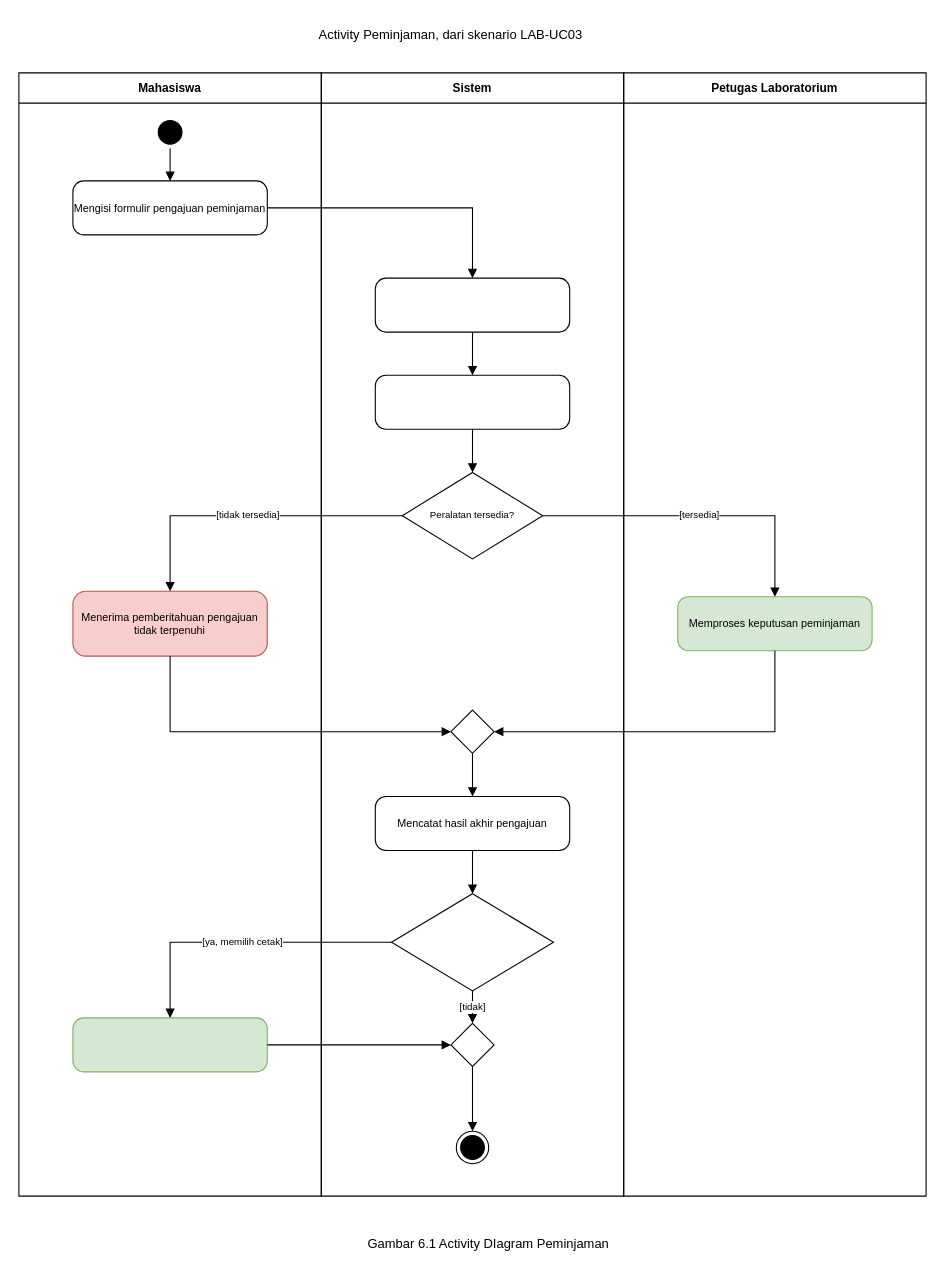
Image size: 945x1279. Some labels were removed from this diagram. Here are the shapes that lost their labels. From the top down, the centre of each, then its label:
At (x=472, y=304): "Menyimpan data pengajuan peminjaman".
At (x=472, y=401): "Periksa Ketersediaan (dari LAB-UC04)".
At (x=472, y=942): "Mahasiswa memilih cetak bukti?".
At (x=169, y=1044): "Cetak Bukti Pengajuan (dari LAB-UC05)".
